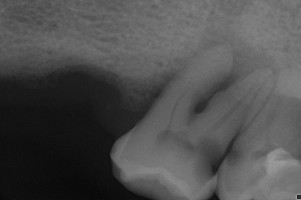Dental Caries: (193, 20, 281, 115)
